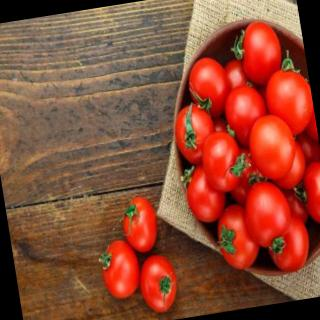Tomat: (90, 192, 183, 320), (261, 57, 318, 140), (241, 178, 297, 252), (245, 112, 301, 185), (233, 18, 288, 89), (212, 202, 263, 274), (222, 82, 273, 151), (171, 99, 221, 168), (185, 55, 235, 123), (199, 129, 248, 196), (181, 162, 230, 227), (97, 237, 145, 302), (264, 214, 315, 275), (137, 253, 183, 317), (118, 194, 163, 256), (300, 160, 320, 226)
